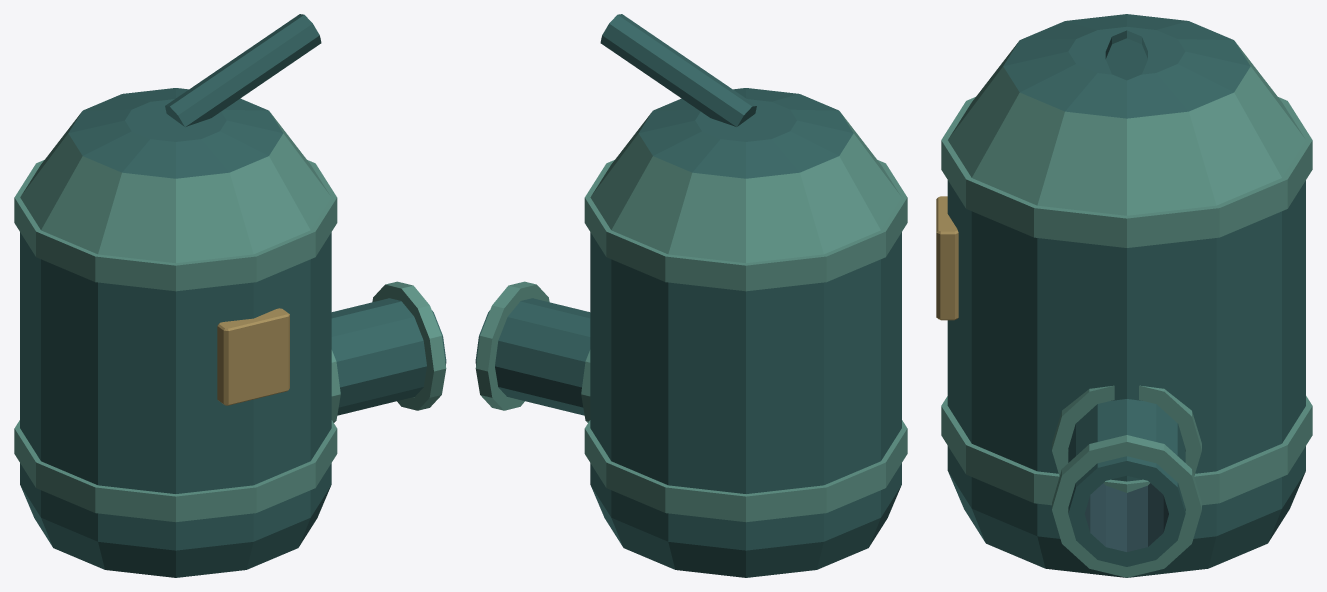
Rendered from pump.glb.
3 renders of one model, left to right at view 1: azimuth 30°, elevation 25°; view 2: azimuth 150°, elevation 25°; view 3: azimuth 270°, elevation 25°, orthographic. The views are drawn at different scales.
Parts seen in each view (by area): view 1: pump__body; view 2: pump__body; view 3: pump__body.
Boxes of the visible parts, bbox=[...] form: pump__body: bbox=[14, 14, 446, 577]; pump__body: bbox=[475, 14, 907, 577]; pump__body: bbox=[936, 14, 1312, 577].
Bounding box in the file's own units: 1.57 × 1.84 × 1.15.
